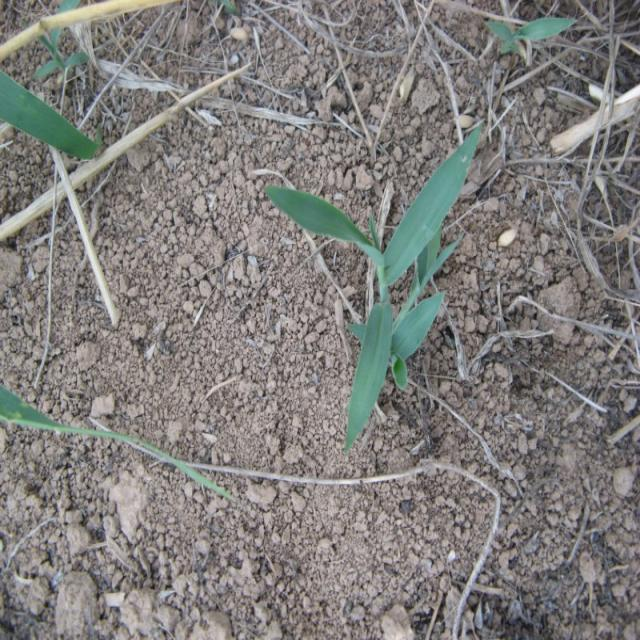bg: (266, 123, 489, 448)
